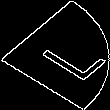L_NW: (14, 27, 96, 83)
